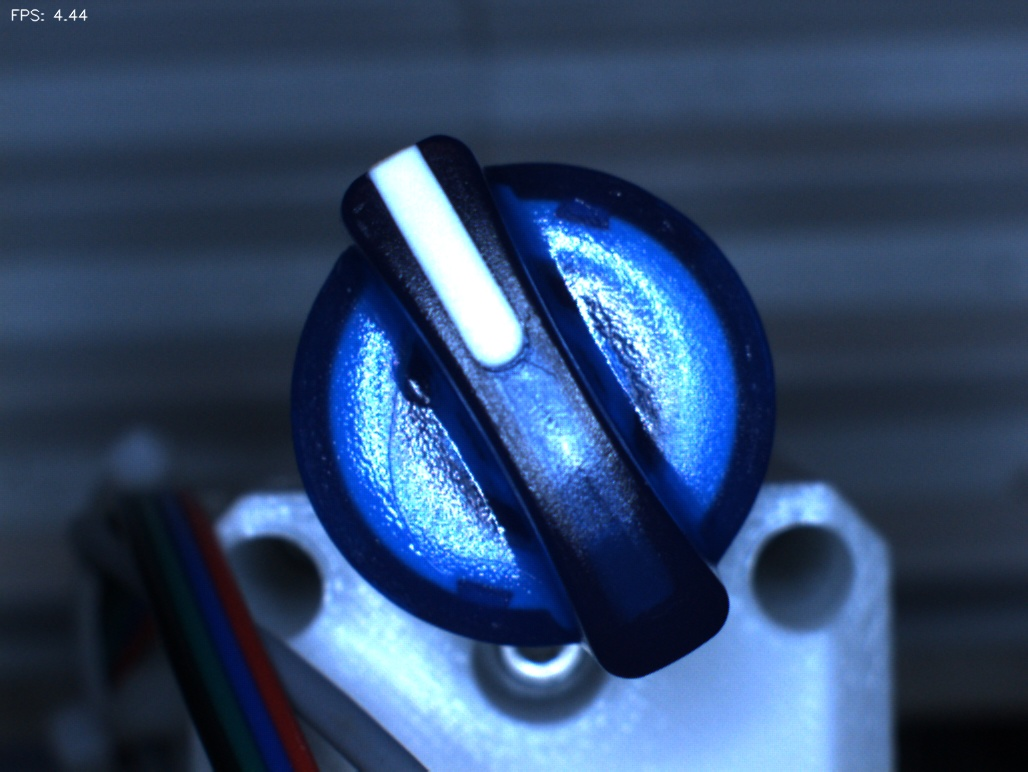Choc: (373, 336, 461, 424)
